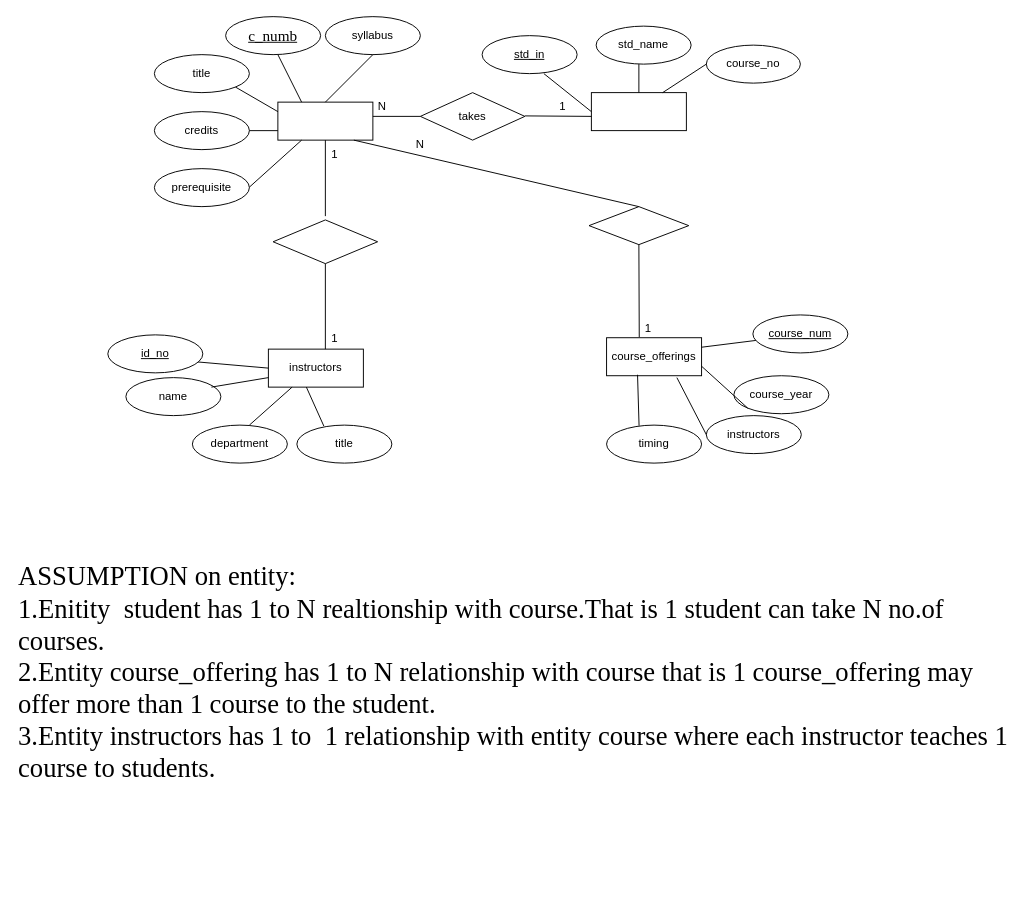
Image size: 1025x908. Some labels were removed from this diagram. The shapes that lost their labels are listed below. From the top down, each one's centre as x and y in pixels, then its label:
pixel 325 120: course
pixel 638 111: student
pixel 325 241: teaches
pixel 638 225: offers
